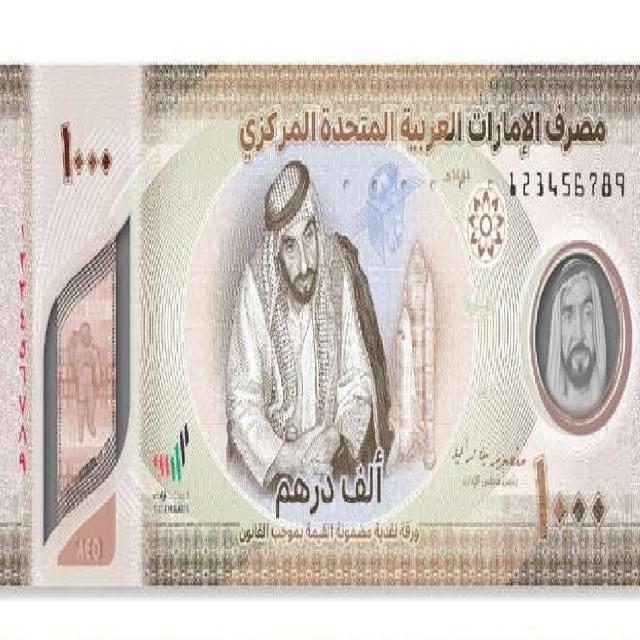1000_AED: (0, 65, 639, 584)
